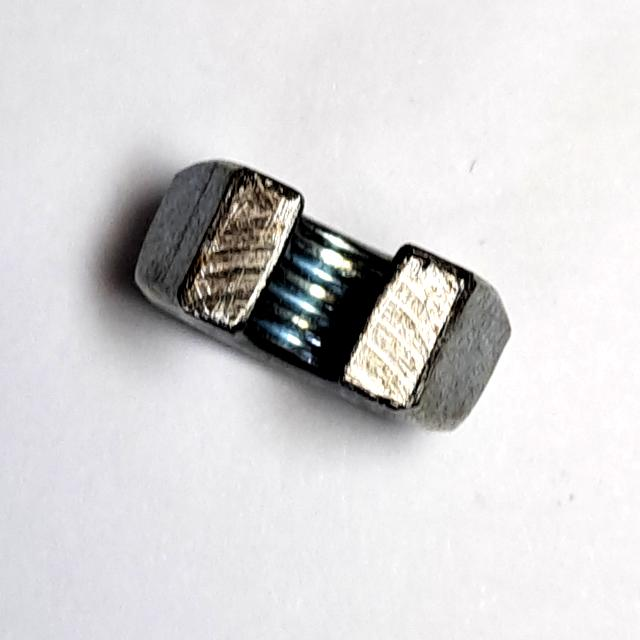Side-Fracture: (121, 147, 530, 450)
